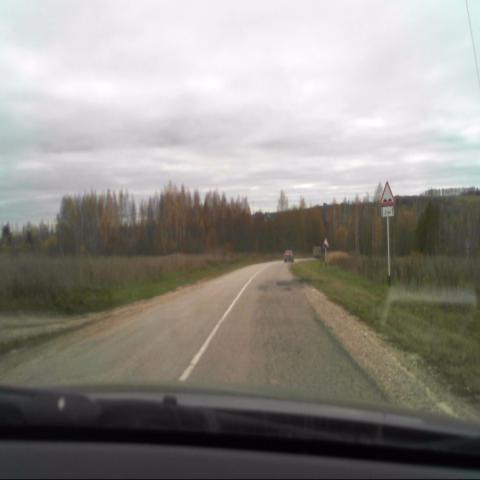1_13: (322, 236, 330, 251)
1_16: (380, 181, 394, 204)
8_2_1: (381, 206, 395, 217)
